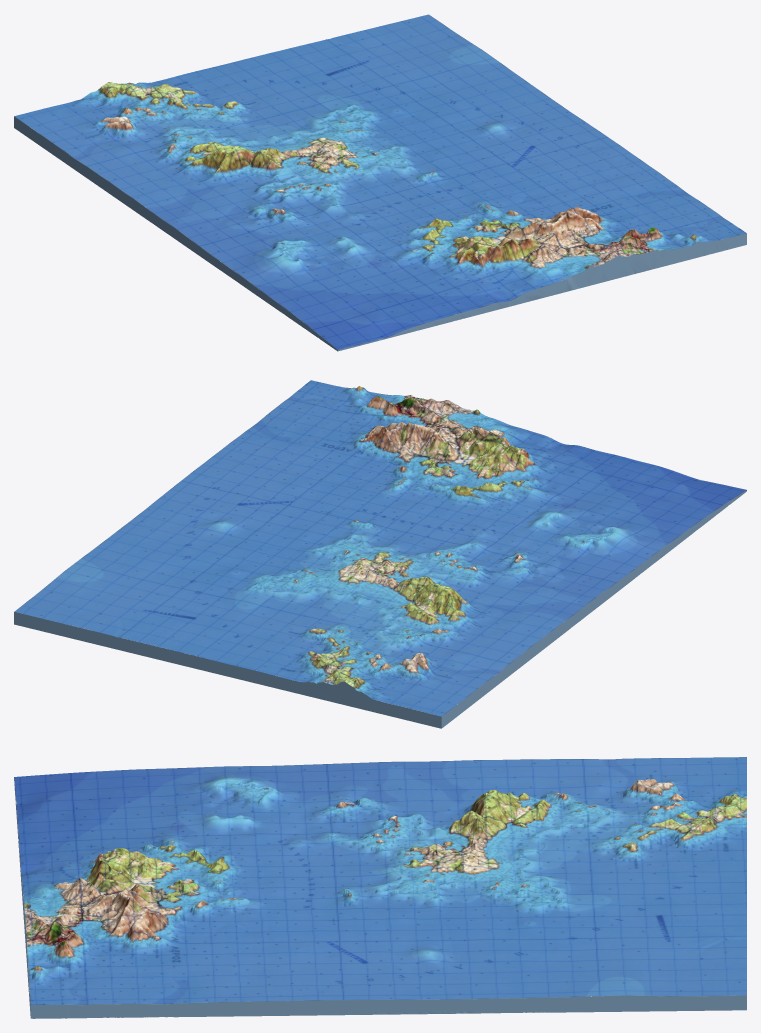
File: model1-opt.glb
3 renders of one model, top to bottom at view 1: azimuth 30°, elevation 25°; view 2: azimuth 150°, elevation 25°; view 3: azimuth 270°, elevation 25°, orthographic. The views are drawn at different scales.
Parts seen in each view (by area): view 1: Mesh_0; view 2: Mesh_0; view 3: Mesh_0.
Part boxes in pixels (x1,y1,x2,y2): Mesh_0: [14, 14, 746, 351]; Mesh_0: [14, 380, 746, 728]; Mesh_0: [14, 757, 746, 1018].
Size of the model in its own units: 0.3157 by 0.0246 by 0.3943.
Materials: 2 (2 with a texture image).
